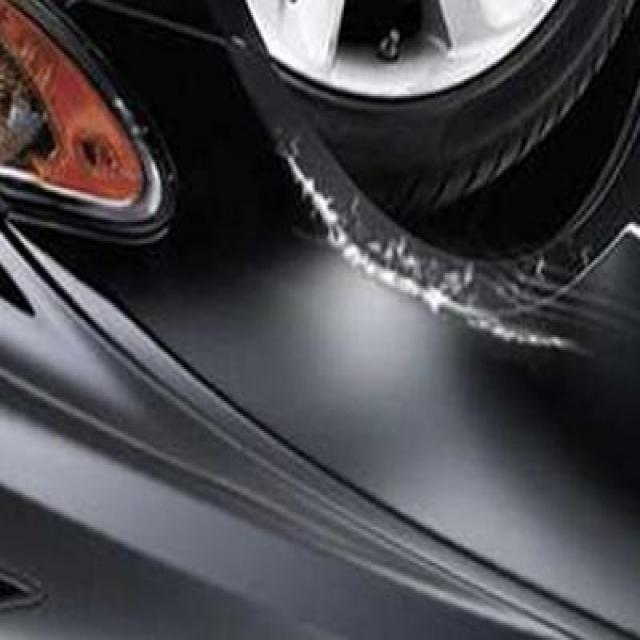scratch: (262, 124, 632, 374)
